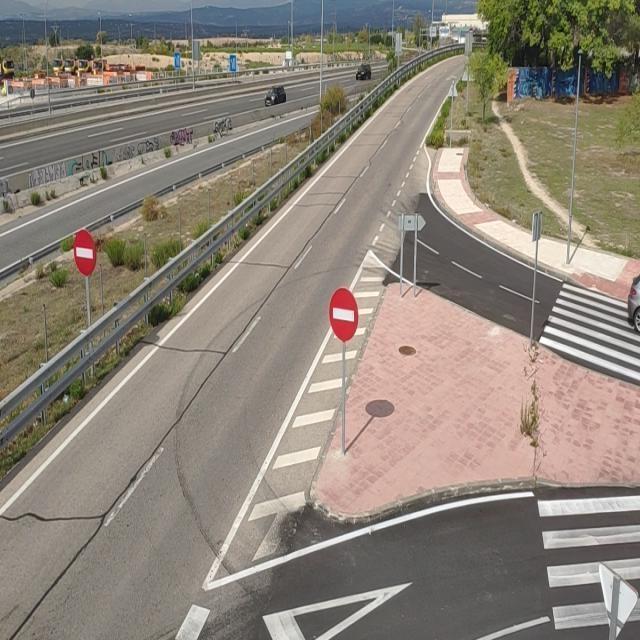Car: (615, 262, 640, 331), (263, 82, 285, 107), (352, 59, 374, 83)
